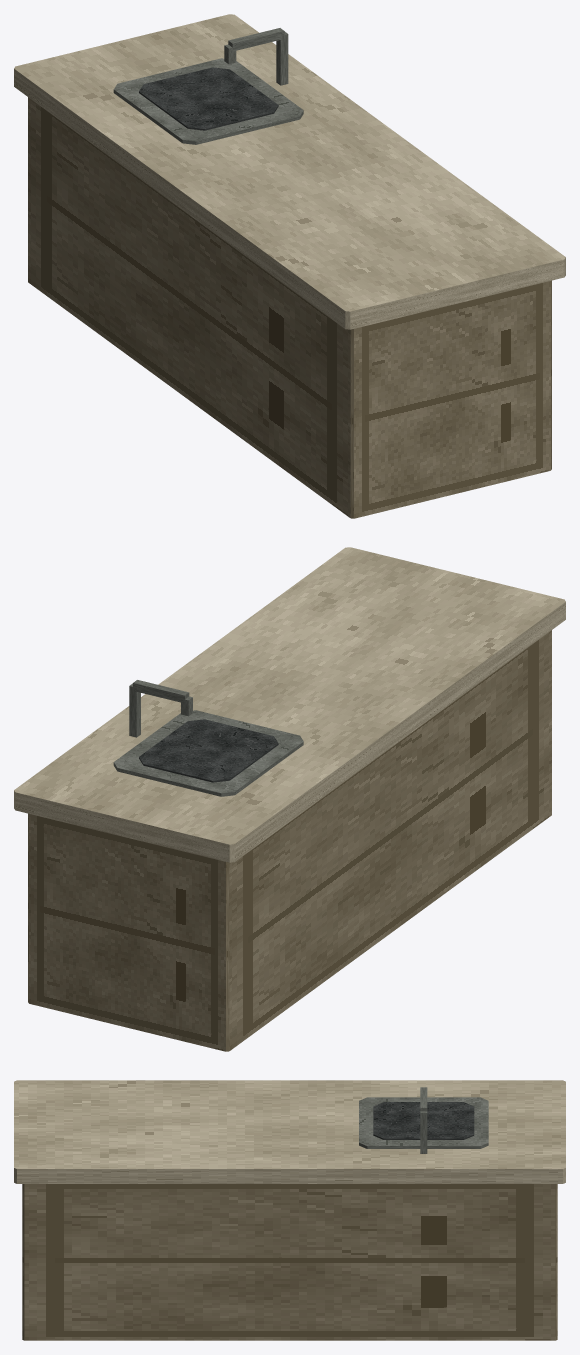
Rendered from kitchen.glb.
The picture shows the model from 3 angles, top to bottom: view 1: azimuth 30°, elevation 25°; view 2: azimuth 150°, elevation 25°; view 3: azimuth 270°, elevation 25°; orthographic projection. The views are drawn at different scales.
Parts seen in each view (by area): view 1: Body; view 2: Body; view 3: Body.
Part boxes in pixels (x1,y1,x2,y2): Body: (14, 14, 565, 518); Body: (14, 547, 565, 1051); Body: (14, 1080, 565, 1340).
Size of the model in its own units: 1.02 by 1.19 by 2.68.
1 material, 1 textured.
